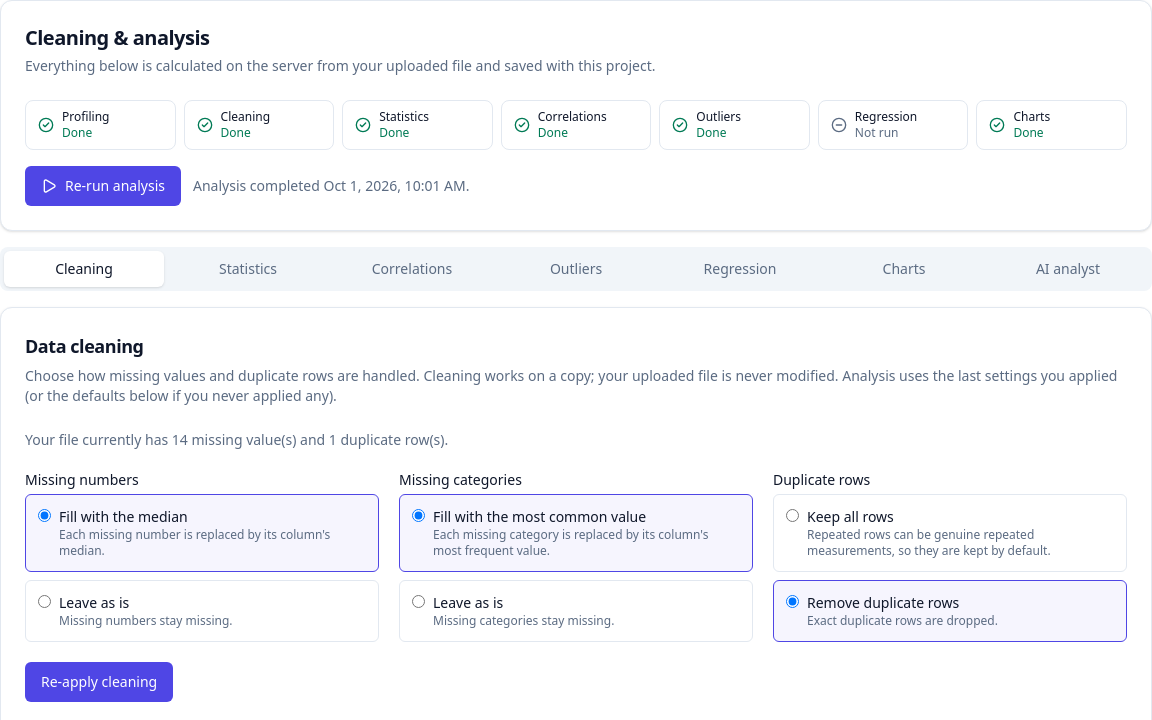
Test: AnalysisWorkspace — running the analysis › shows empty states when correlations and charts are unavailable
The width and height of the screenshot is (1152, 720).
Step 1. Click the tab "Correlations" → click(412, 269), box [332, 251, 492, 287]
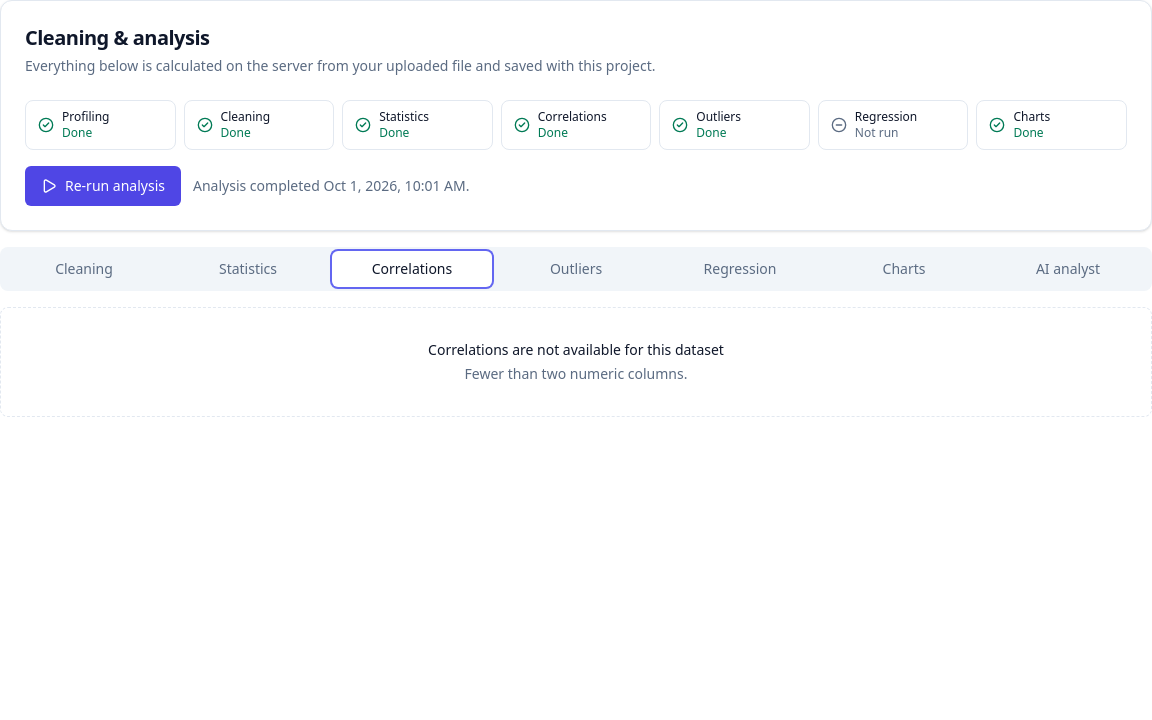
expect the text "Correlations are not available for this dataset" is shown: met, box [428, 340, 724, 360]
expect the text "Fewer than two numeric columns." is shown: met, box [464, 364, 687, 384]
Step 2. Click the tab "Charts" → click(904, 269), box [824, 251, 984, 287]
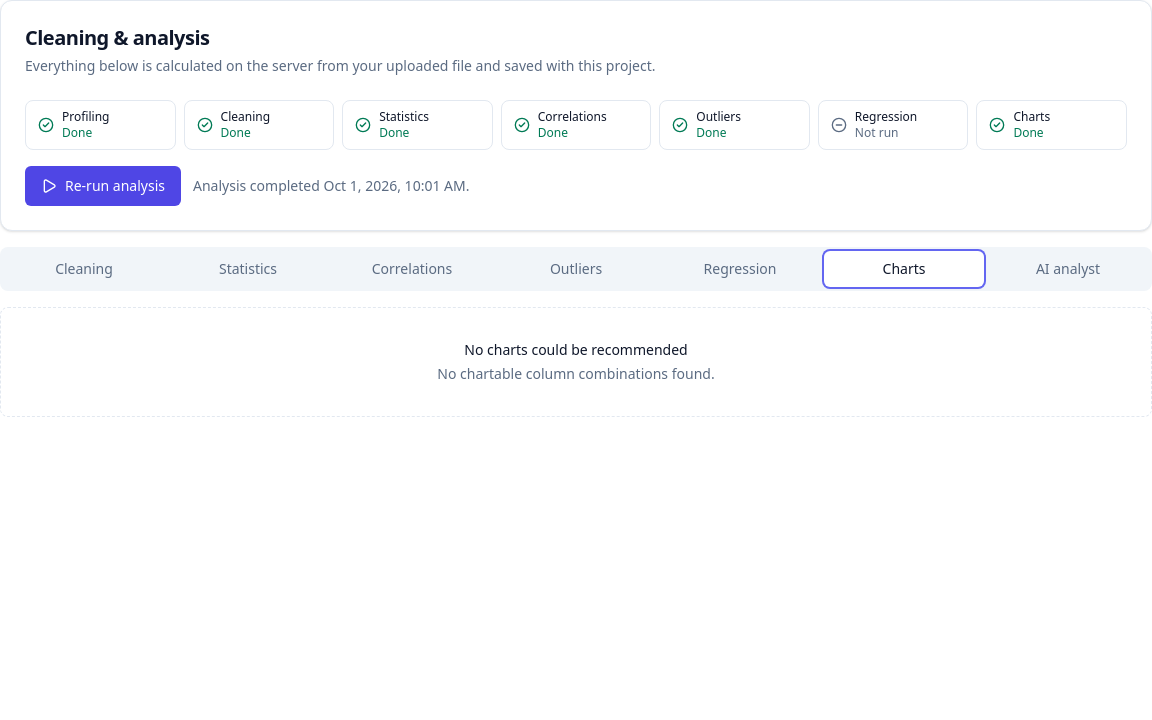
expect the text "No charts could be recommended" is shown: met, box [464, 340, 688, 360]
